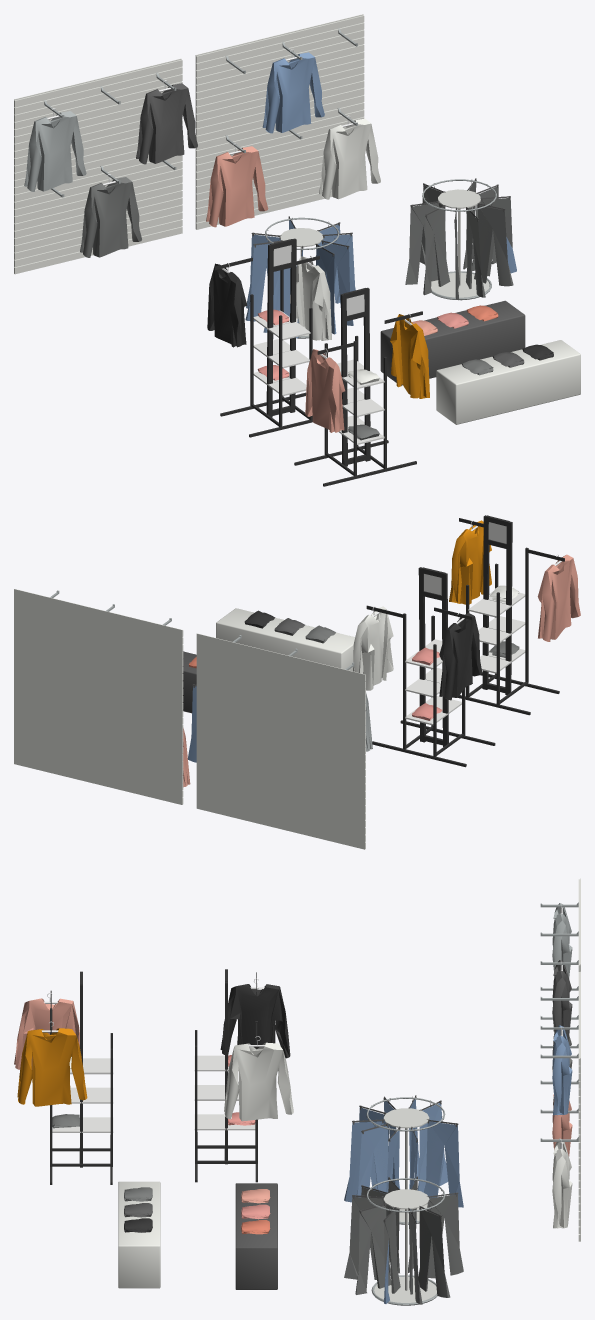
3 views of the same model, one above another, from view 1: azimuth 30°, elevation 25°; view 2: azimuth 150°, elevation 25°; view 3: azimuth 270°, elevation 25° (orthographic). The views are drawn at different scales.
Visible parts, largest first — view 1: 3, 1, 4, 2; view 2: 3, 1, 2, 4; view 3: 1, 4, 2, 3.
Part boxes in pixels (<box>): 3: <box>14,14,380,274</box>; 1: <box>207,238,429,486</box>; 4: <box>245,178,516,338</box>; 2: <box>380,300,580,424</box>; 3: <box>14,589,372,849</box>; 1: <box>353,515,580,767</box>; 2: <box>182,608,354,713</box>; 4: <box>188,684,196,762</box>; 1: <box>14,969,293,1184</box>; 4: <box>344,1095,463,1305</box>; 2: <box>118,1181,277,1289</box>; 3: <box>540,878,580,1241</box>.
Size of the model in its own units: 415 by 213 by 470.
